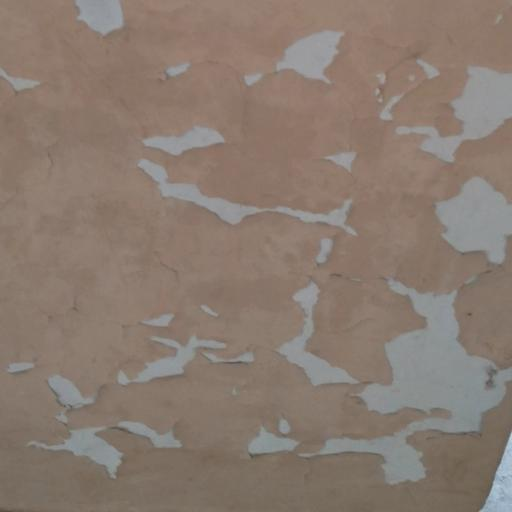peeling: (10, 0, 512, 512)
